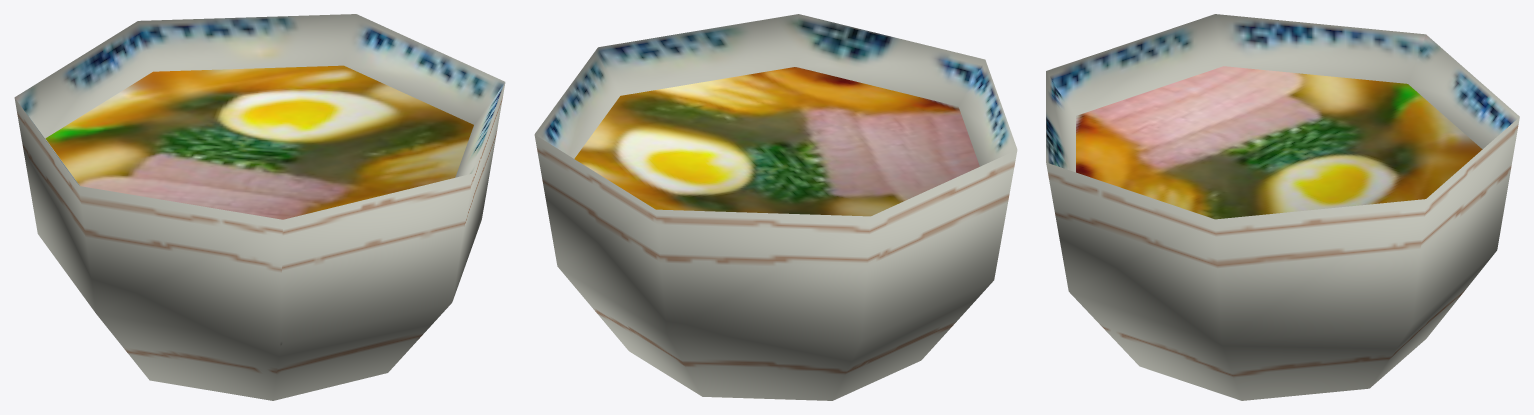
File: Plate_food_01-col.glb
3 views of the same model, side by side, from view 1: azimuth 30°, elevation 25°; view 2: azimuth 150°, elevation 25°; view 3: azimuth 270°, elevation 25° (orthographic).
Parts seen in each view (by area): view 1: Plate_food_01-col; view 2: Plate_food_01-col; view 3: Plate_food_01-col.
Part boxes in pixels (x1,y1,x2,y2): Plate_food_01-col: (14, 14, 505, 400); Plate_food_01-col: (534, 14, 1017, 400); Plate_food_01-col: (1046, 14, 1519, 400).
Bounding box in the file's own units: 0.2909 × 0.1467 × 0.2836.
Materials: 1 (1 with a texture image).
